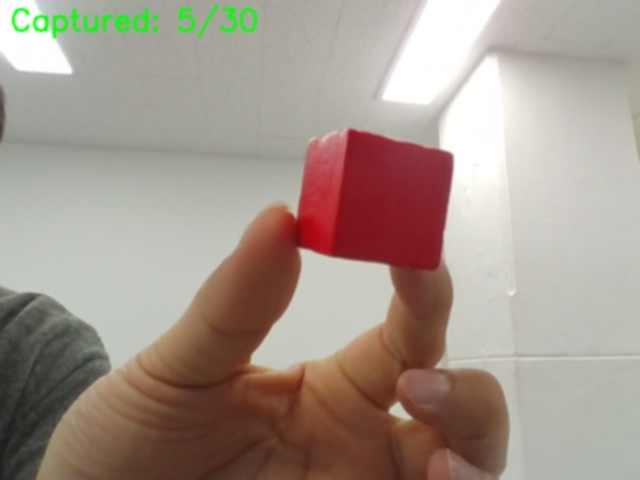Normal: (308, 118, 466, 257)
